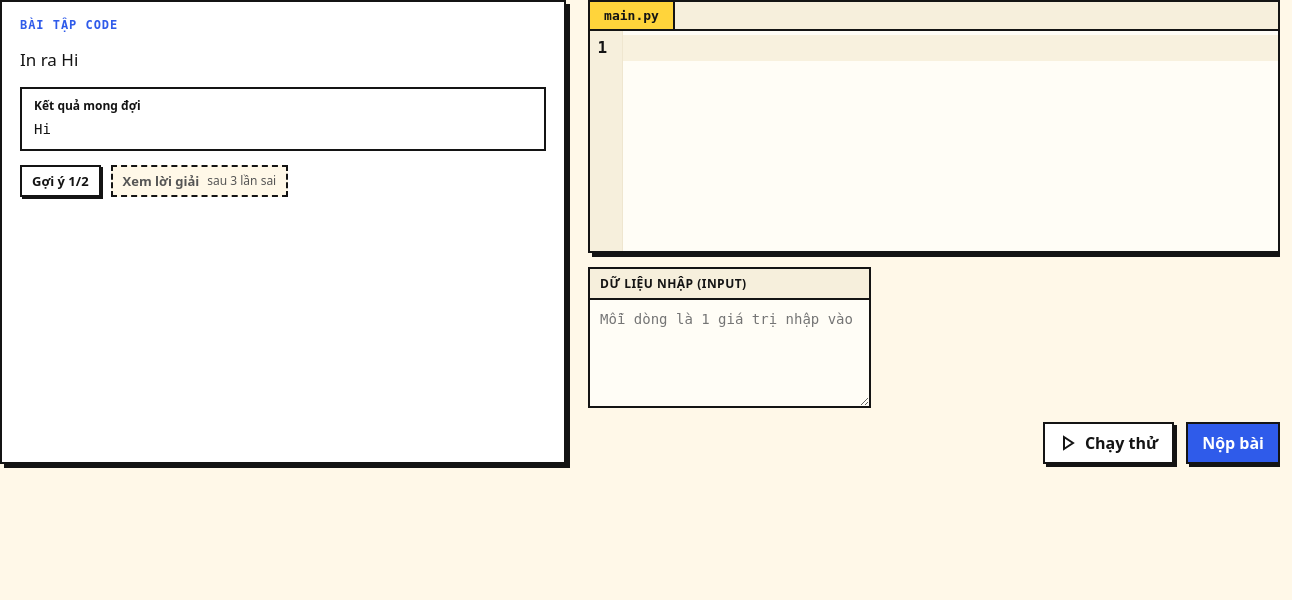
Test: CodeExerciseView › Submit accepts a correct answer
What coordinates should you click on to do the following:
click the button "Nộp bài"
I would click on:
 (1233, 443)
Its box is [1186,422,1280,464].
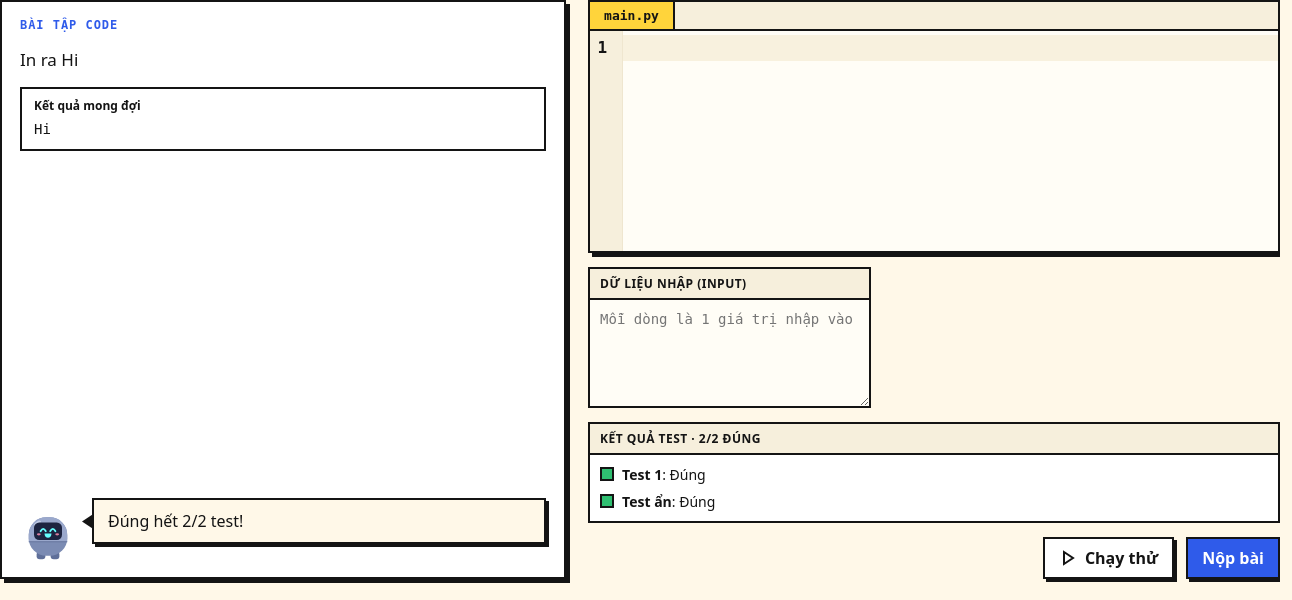
Result: the text "Đúng hết 2/2 test!" is shown at [108,510,243,532]
